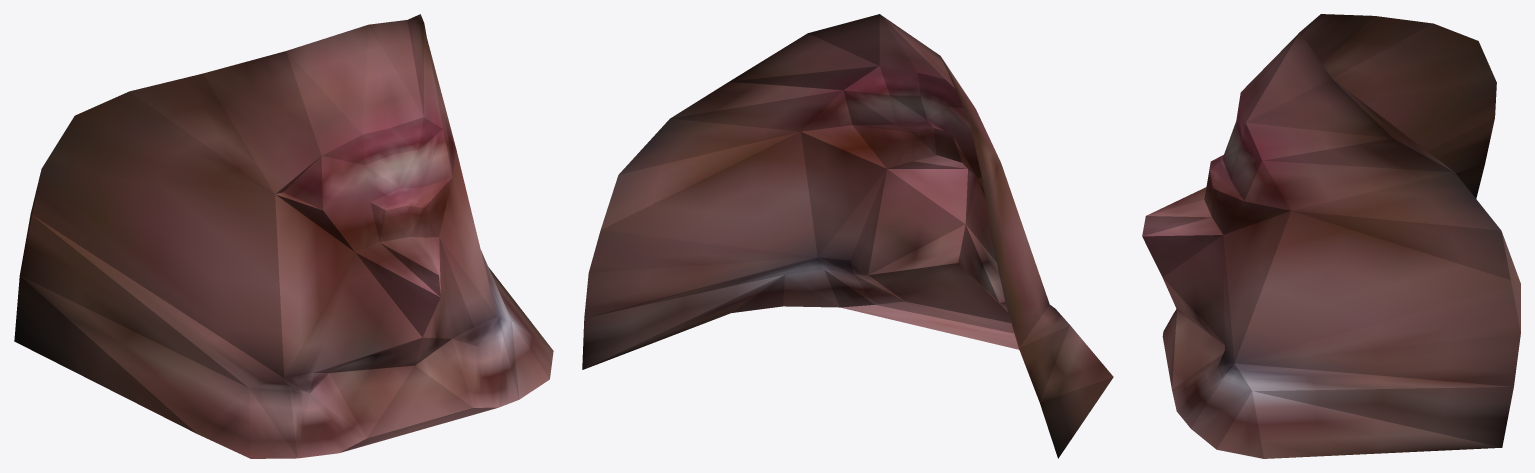
The model's file is real_52284.obj.
3 renders of one model, left to right at view 1: azimuth 30°, elevation 25°; view 2: azimuth 150°, elevation 25°; view 3: azimuth 270°, elevation 25°, orthographic.
Size of the model in its own units: 116 by 86 by 84.06.
